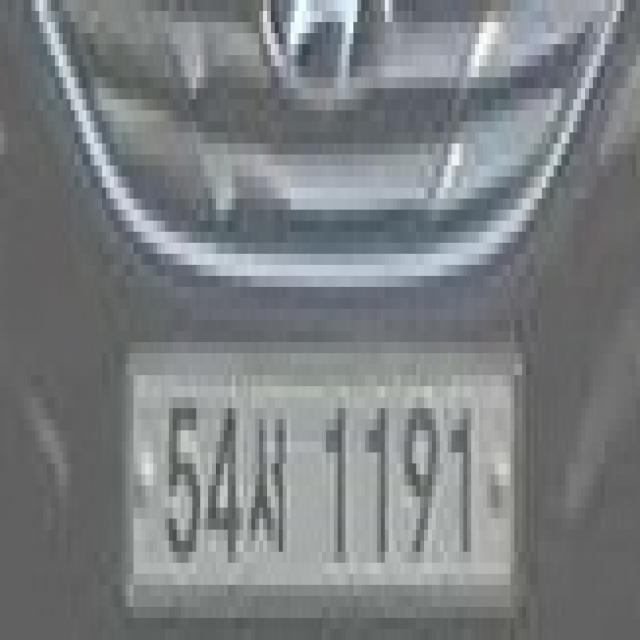1: (318, 375, 349, 574), (361, 386, 393, 574), (444, 397, 479, 563)
4: (196, 364, 244, 563)
5: (153, 364, 208, 563)
9: (392, 375, 443, 574)
license_plate: (118, 342, 534, 607)
seo: (240, 375, 298, 563)
